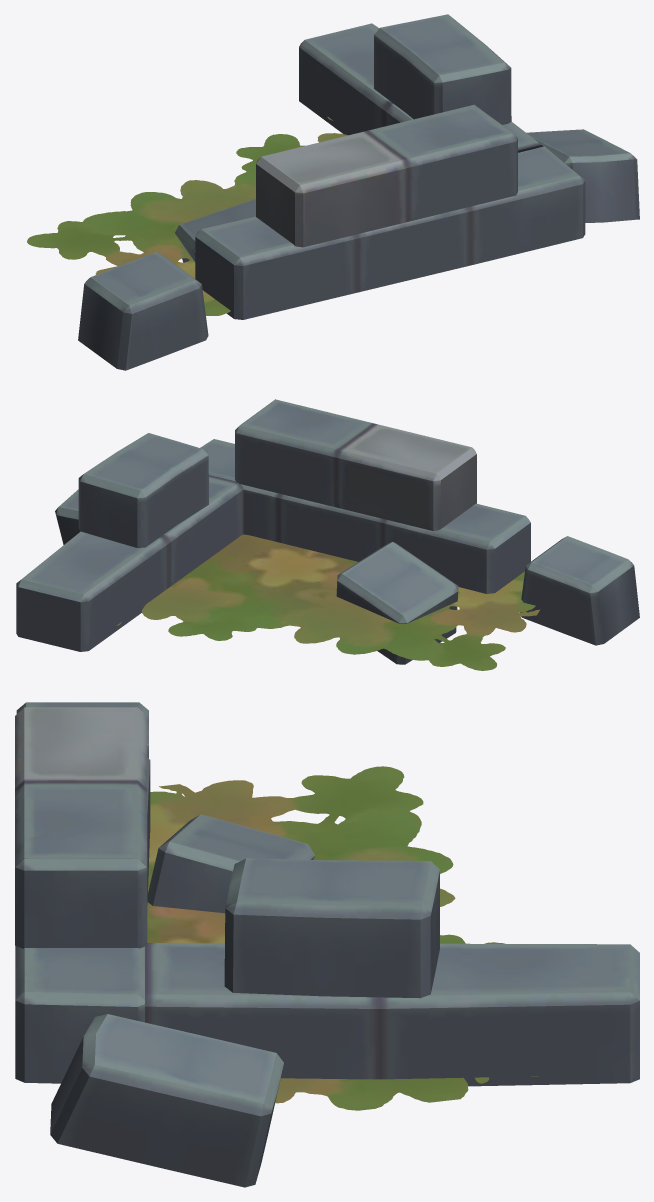
File: ruins_3.fbx
3 views of the same model, one above another, from view 1: azimuth 30°, elevation 25°; view 2: azimuth 150°, elevation 25°; view 3: azimuth 270°, elevation 25° (orthographic). The views are drawn at different scales.
Parts seen in each view (by area): view 1: building, obstacle_ground_01; view 2: building, obstacle_ground_01; view 3: building, obstacle_ground_01.
Part boxes in pixels (bbox=[...]): building: bbox=[78, 14, 639, 370]; obstacle_ground_01: bbox=[27, 117, 347, 315]; building: bbox=[16, 399, 639, 664]; obstacle_ground_01: bbox=[116, 534, 539, 670]; building: bbox=[15, 702, 639, 1187]; obstacle_ground_01: bbox=[147, 766, 538, 1110].
Size of the model in its own units: 2.88 by 0.825 by 1.94.
2 materials, 2 textured.
